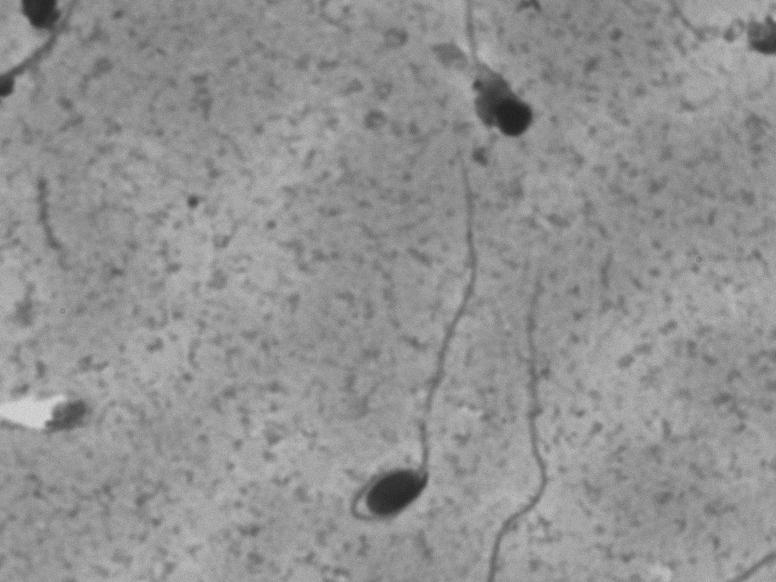Abnormal: (329, 152, 491, 550)
